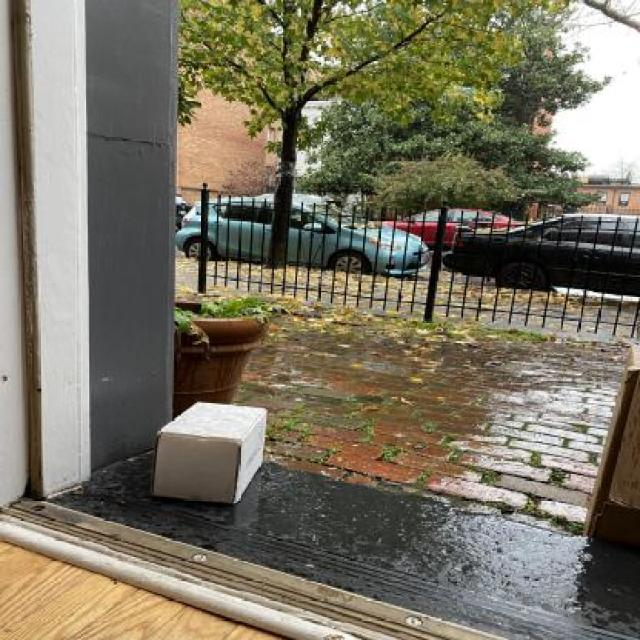cardboxes: (139, 398, 278, 510)
